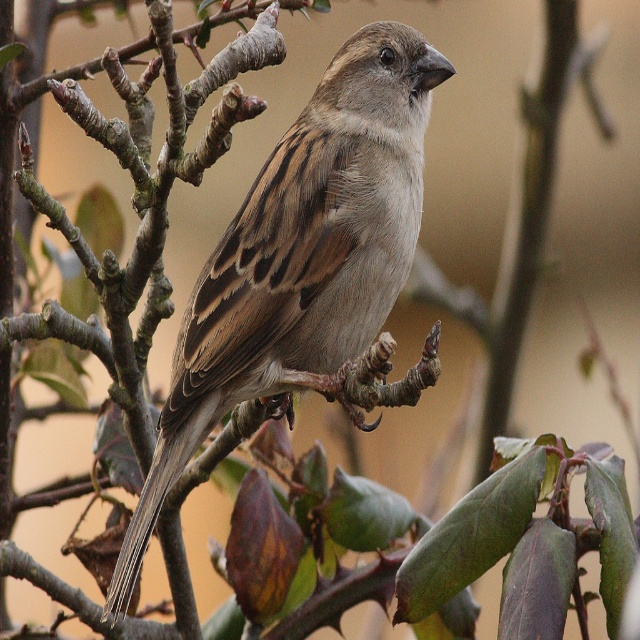Sparrow: (99, 22, 456, 628)
